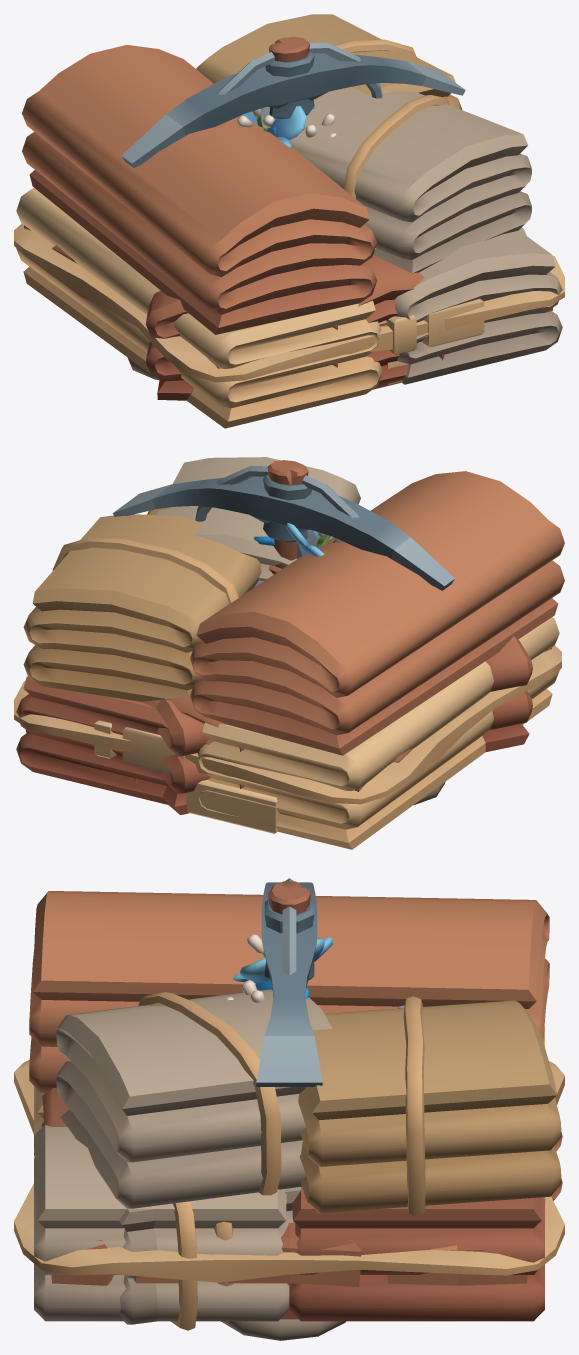
The model's file is caches.glb.
3 views of the same model, one above another, from view 1: azimuth 30°, elevation 25°; view 2: azimuth 150°, elevation 25°; view 3: azimuth 270°, elevation 25° (orthographic). The views are drawn at different scales.
Parts seen in each view (by area): view 1: Textiles_Stack_Large, Textiles_Stack_Small, pickaxe, Pallet_Wood_Covered_A, Textiles_C, Wood_Planks_Stack_Small, bucket_metal, flax_flower_A; view 2: Textiles_Stack_Large, Textiles_Stack_Small, pickaxe, Pallet_Wood_Covered_A, Wood_Planks_Stack_Small, bucket_metal, Textiles_C, flax_flower_A; view 3: Textiles_Stack_Large, Textiles_Stack_Small, Pallet_Wood_Covered_A, pickaxe, rope_bundle_A, Pallet_Wood, flax_flower_A, bucket_metal, Textiles_C.
Boxes of the visible parts, box(x1,y1,x2,y2) form: Textiles_Stack_Large: box(16, 14, 562, 428); Textiles_Stack_Small: box(145, 87, 531, 400); pickaxe: box(121, 36, 465, 167); Pallet_Wood_Covered_A: box(14, 223, 564, 382); Textiles_C: box(332, 248, 444, 389); Wood_Planks_Stack_Small: box(378, 298, 484, 385); bucket_metal: box(218, 42, 382, 98); flax_flower_A: box(237, 106, 306, 147); Textiles_Stack_Large: box(16, 471, 564, 849); Textiles_Stack_Small: box(147, 457, 532, 814); pickaxe: box(112, 460, 454, 590); Pallet_Wood_Covered_A: box(14, 645, 561, 804); Wood_Planks_Stack_Small: box(94, 720, 279, 833); bucket_metal: box(195, 465, 359, 521); Textiles_C: box(134, 697, 244, 788); flax_flower_A: box(286, 523, 342, 556); Textiles_Stack_Large: box(29, 891, 561, 1330); Textiles_Stack_Small: box(56, 989, 562, 1324); Pallet_Wood_Covered_A: box(14, 1060, 564, 1286); pickaxe: box(256, 881, 322, 1086); rope_bundle_A: box(222, 1310, 345, 1340); Pallet_Wood: box(86, 1222, 486, 1319); flax_flower_A: box(233, 934, 333, 982); bucket_metal: box(282, 878, 404, 1008); Textiles_C: box(42, 1088, 69, 1126).
Size of the model in its own units: 1.72 by 1.45 by 1.72.
Materials: 18 (18 with a texture image).
